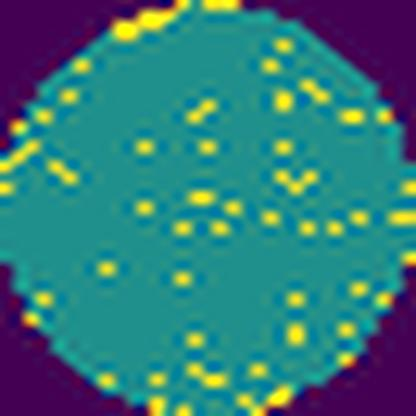Edge-Loc: (112, 0, 195, 44)
